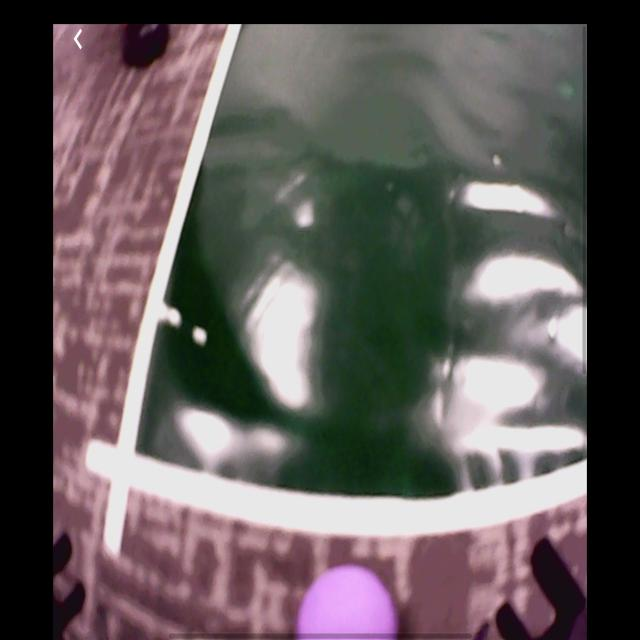ball: (298, 565, 396, 638)
